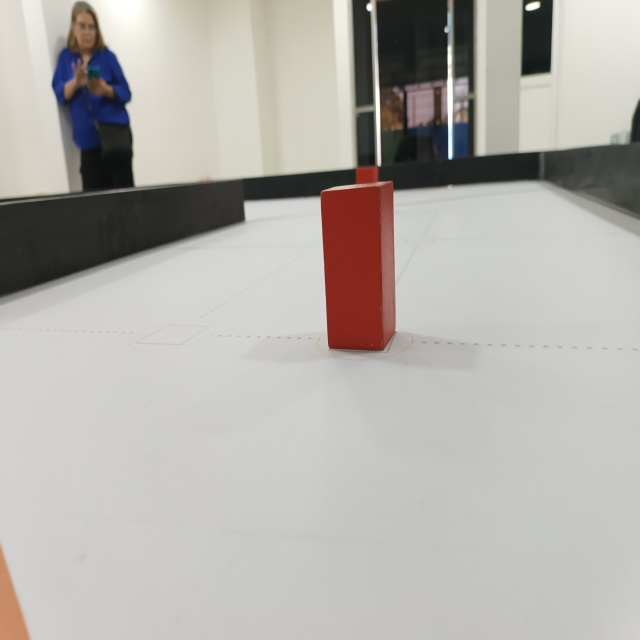red rectangular prism: (319, 181, 399, 355)
